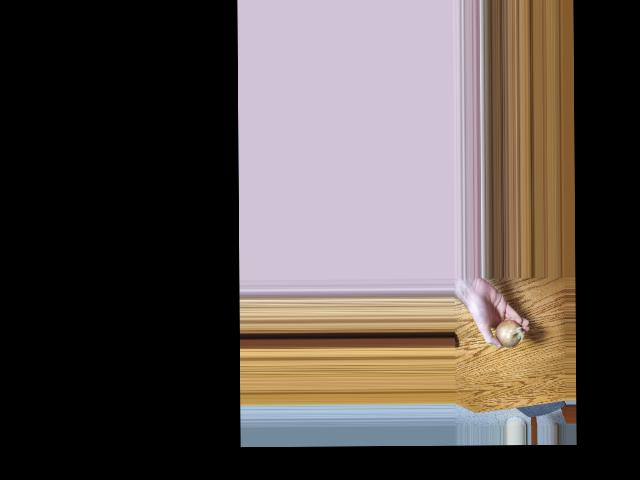onion: (495, 317, 520, 347)
